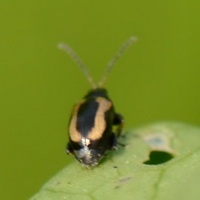insect: (57, 36, 136, 167)
